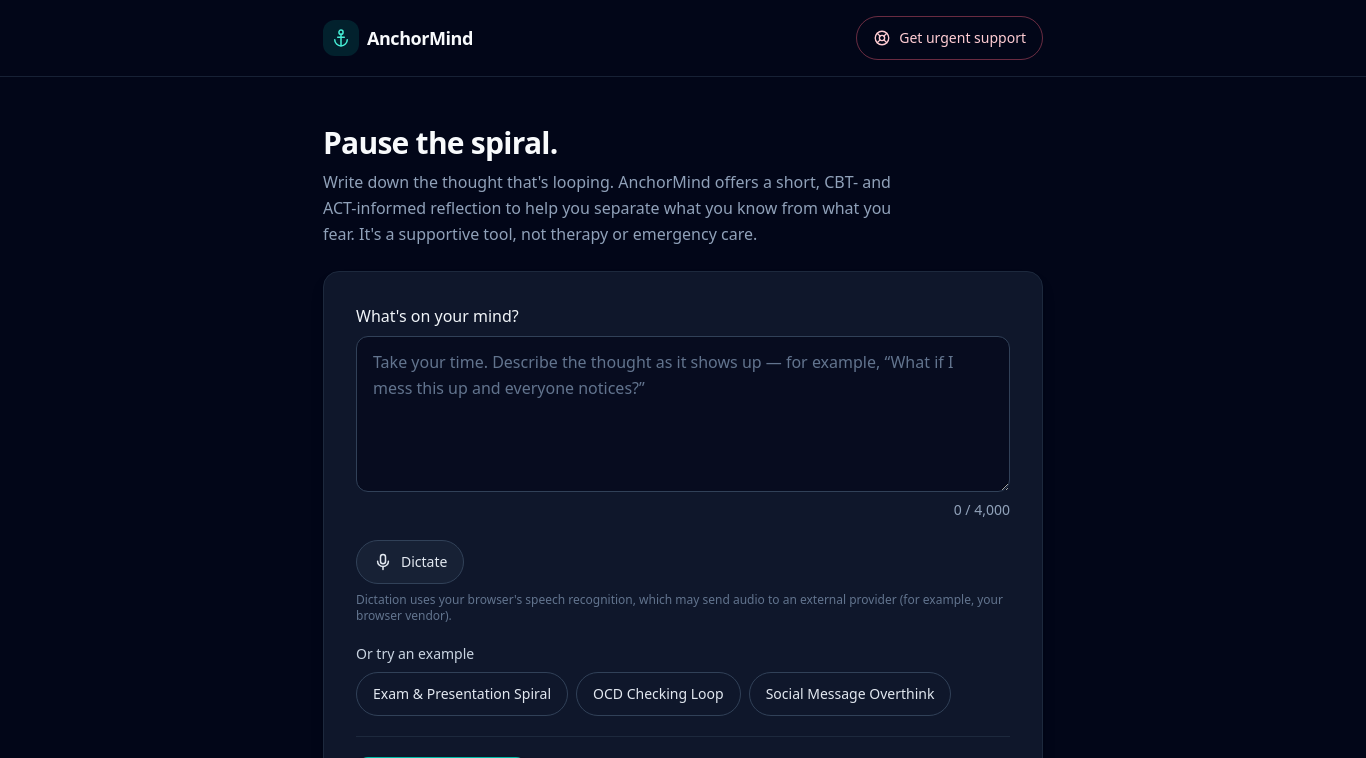
it: Home page flow › score 7 skips the gate
The width and height of the screenshot is (1366, 758).
Click the button "OCD Checking Loop" at x=658, y=694, box [576,672,741,716]
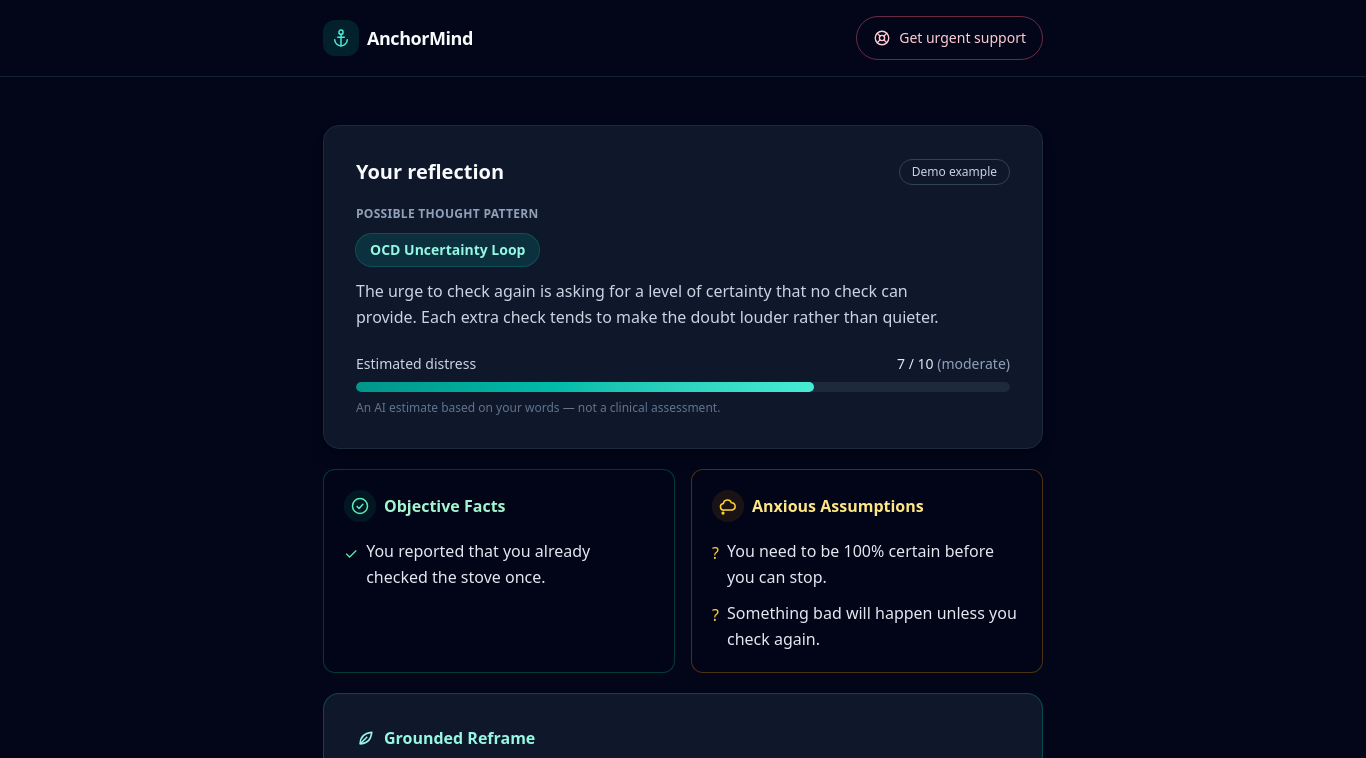
Expected: the text "OCD Uncertainty Loop" is shown, [356,234,540,266]
